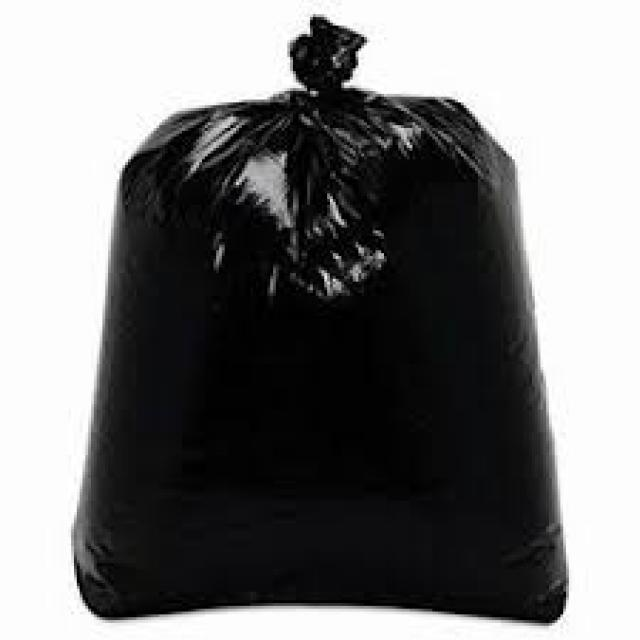plastic_bag: (58, 38, 538, 618)
